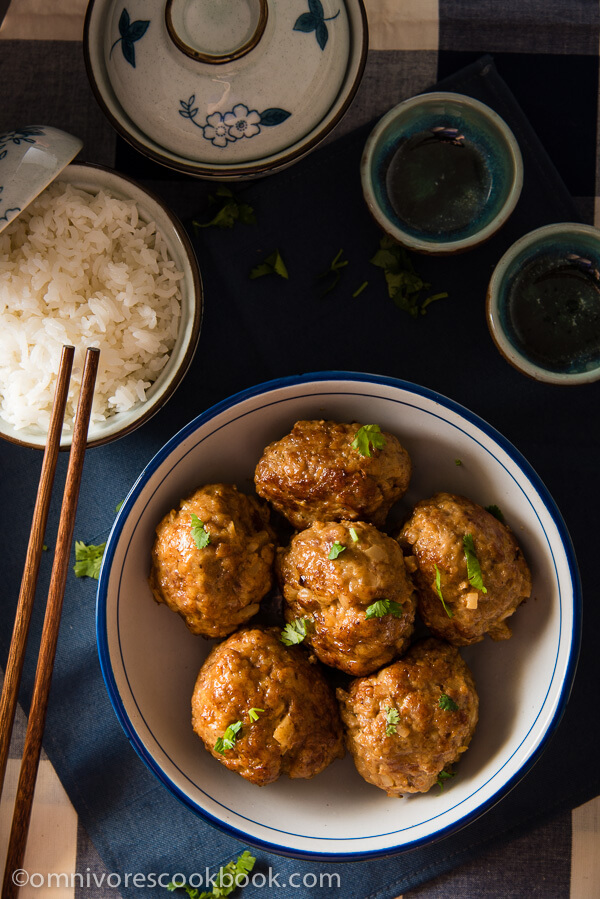meatballs: (159, 425, 518, 790), (195, 640, 342, 794), (335, 660, 489, 796), (411, 507, 541, 651), (285, 530, 414, 671), (256, 414, 421, 523), (156, 487, 274, 625)
plain rice: (1, 206, 163, 393)
